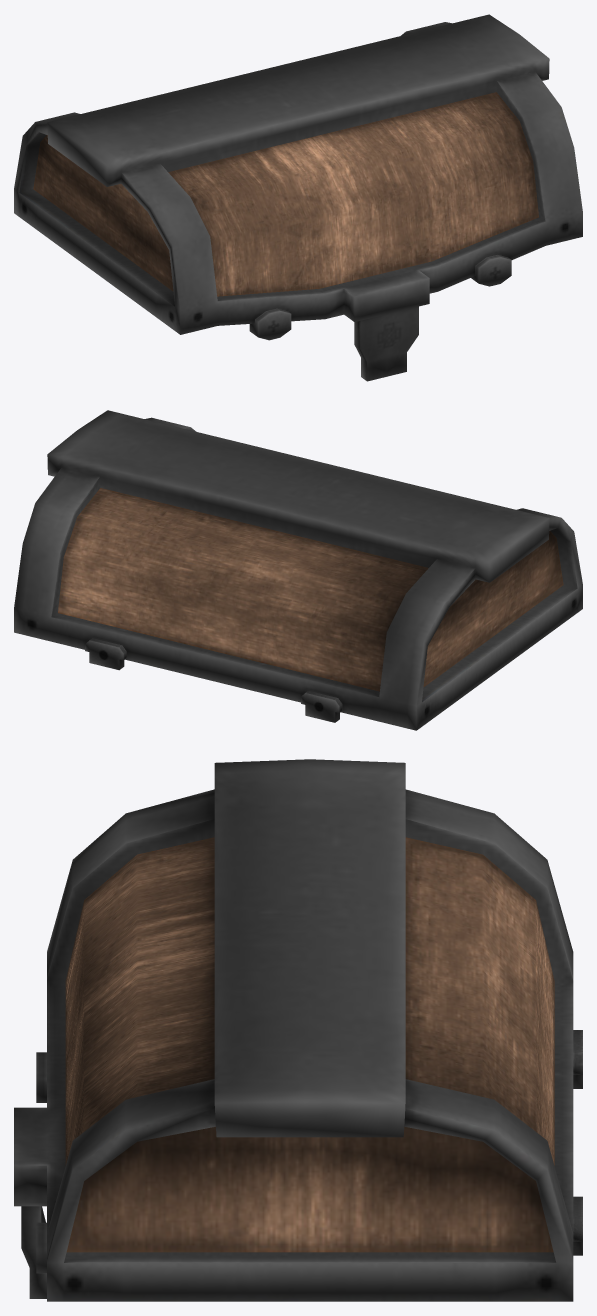
The model's file is hd_metalWoodOldChestTop_a_main.glb.
3 views of the same model, one above another, from view 1: azimuth 30°, elevation 25°; view 2: azimuth 150°, elevation 25°; view 3: azimuth 270°, elevation 25° (orthographic). The views are drawn at different scales.
Visible parts, largest first — view 1: hd_metalWoodOldChestTop_a_DefaultMaterial_Albedo.jpg__; view 2: hd_metalWoodOldChestTop_a_DefaultMaterial_Albedo.jpg__; view 3: hd_metalWoodOldChestTop_a_DefaultMaterial_Albedo.jpg__.
Part boxes in pixels (bbox=[...]): hd_metalWoodOldChestTop_a_DefaultMaterial_Albedo.jpg__: bbox=[14, 14, 582, 381]; hd_metalWoodOldChestTop_a_DefaultMaterial_Albedo.jpg__: bbox=[14, 410, 582, 730]; hd_metalWoodOldChestTop_a_DefaultMaterial_Albedo.jpg__: bbox=[14, 759, 582, 1301].
Bounding box in the file's own units: 1.89 × 0.9154 × 1.33.
Materials: 1 (1 with a texture image).
